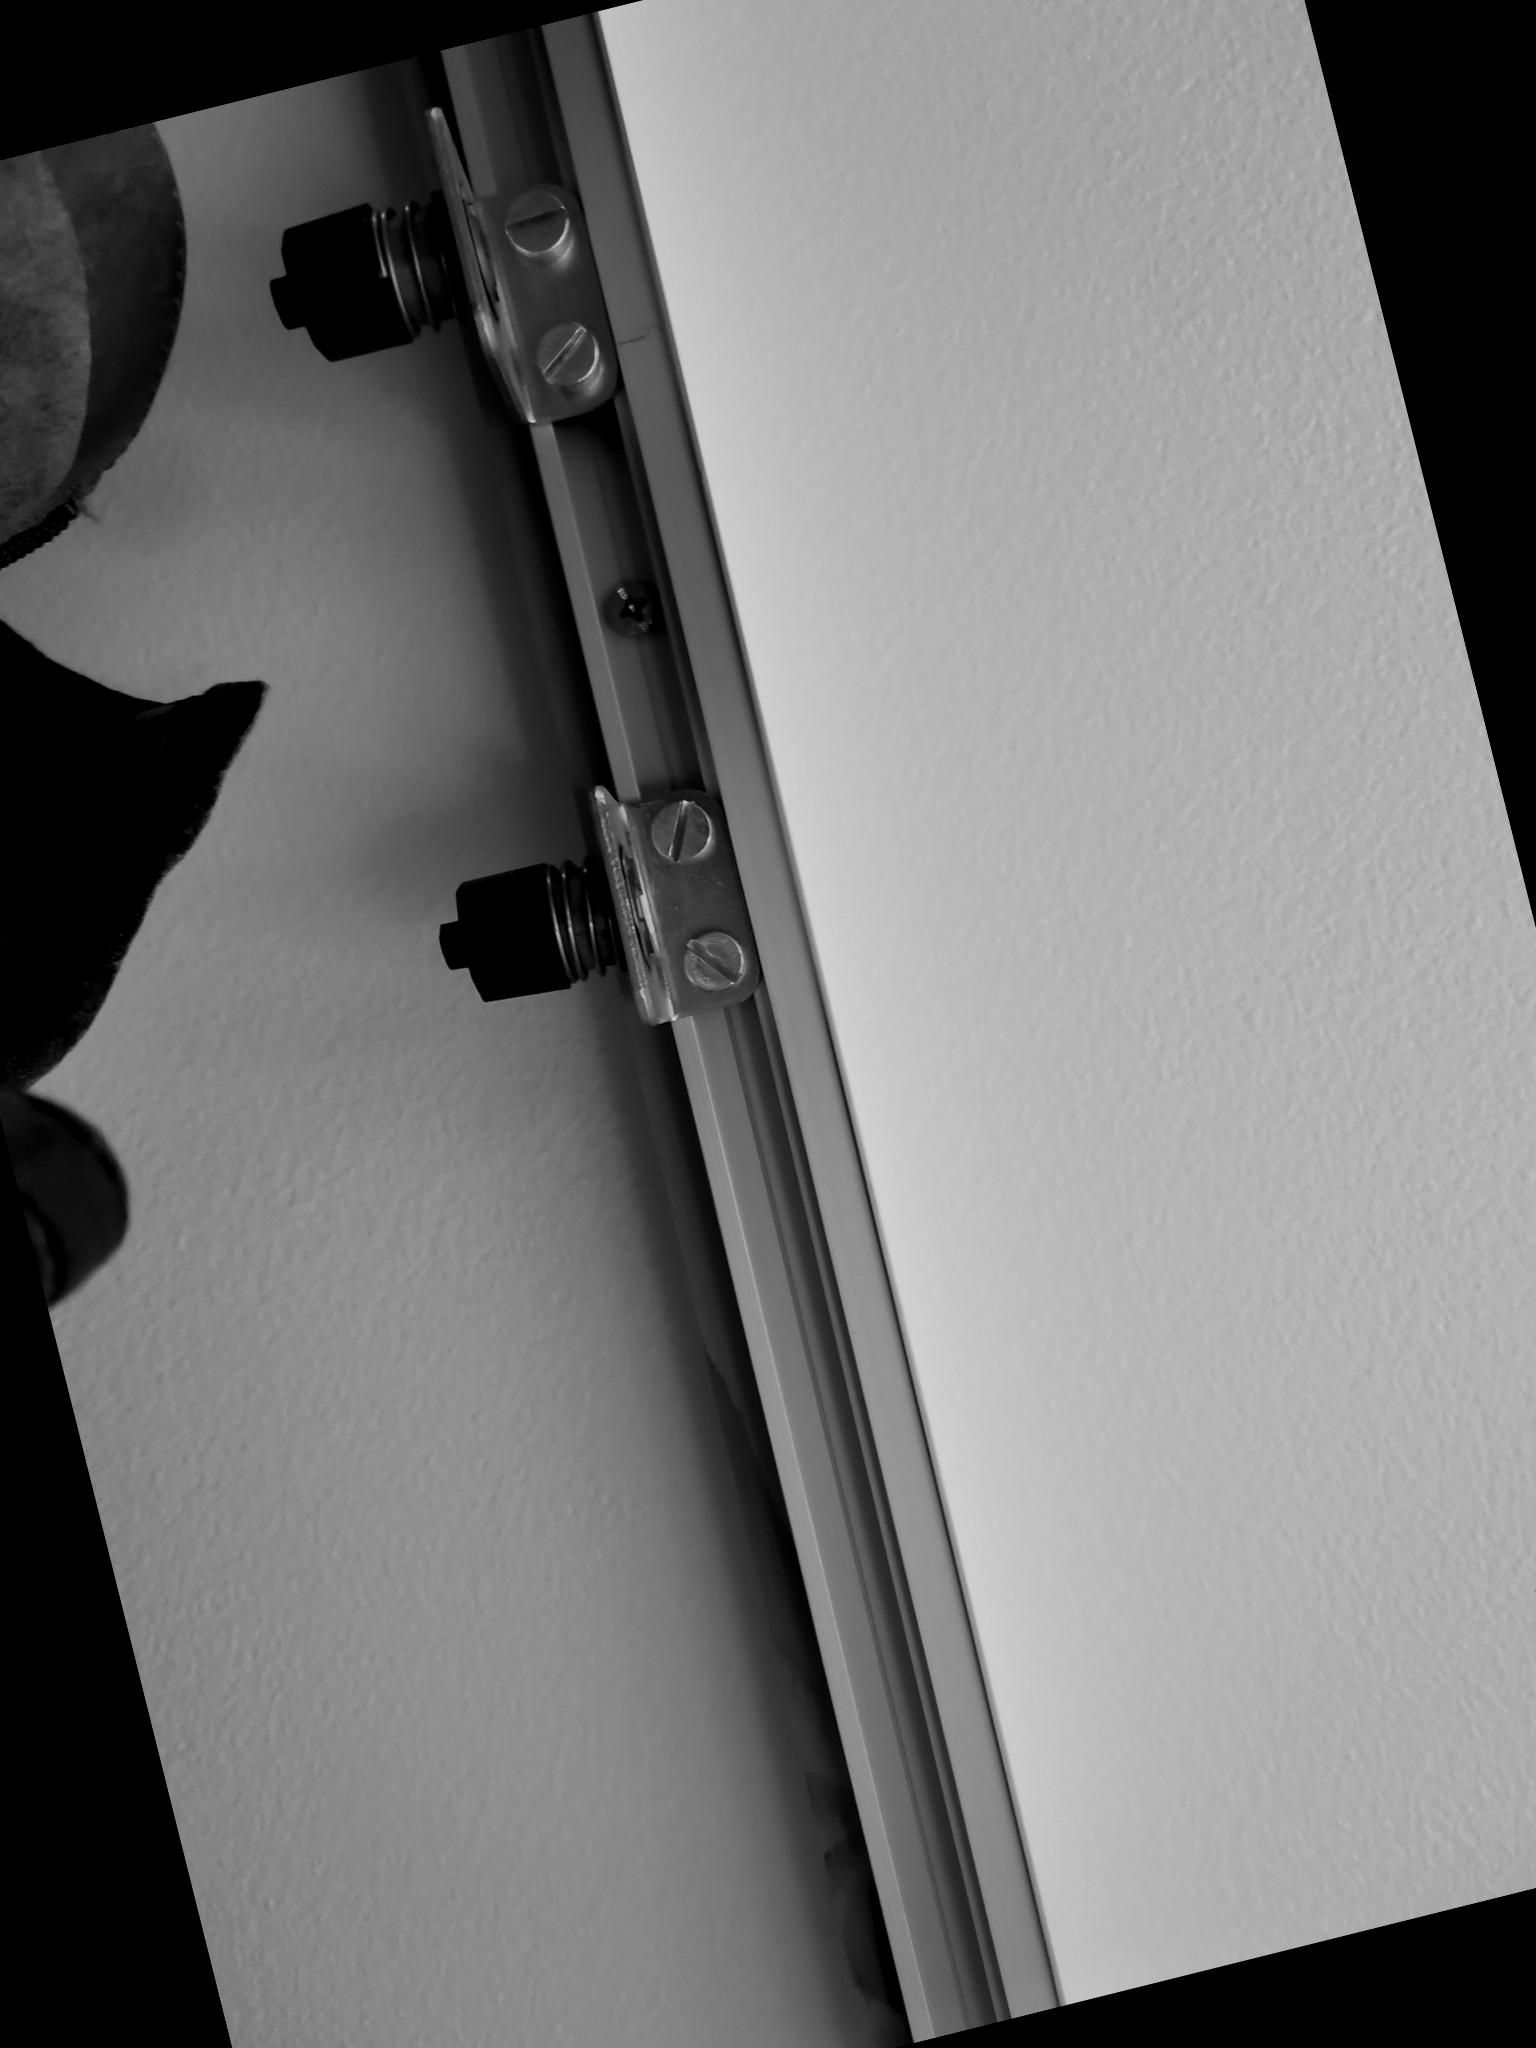philips-PZ: (594, 569, 671, 648)
slotted: (668, 914, 758, 1006), (490, 181, 581, 269), (524, 311, 615, 398), (641, 790, 726, 876)
